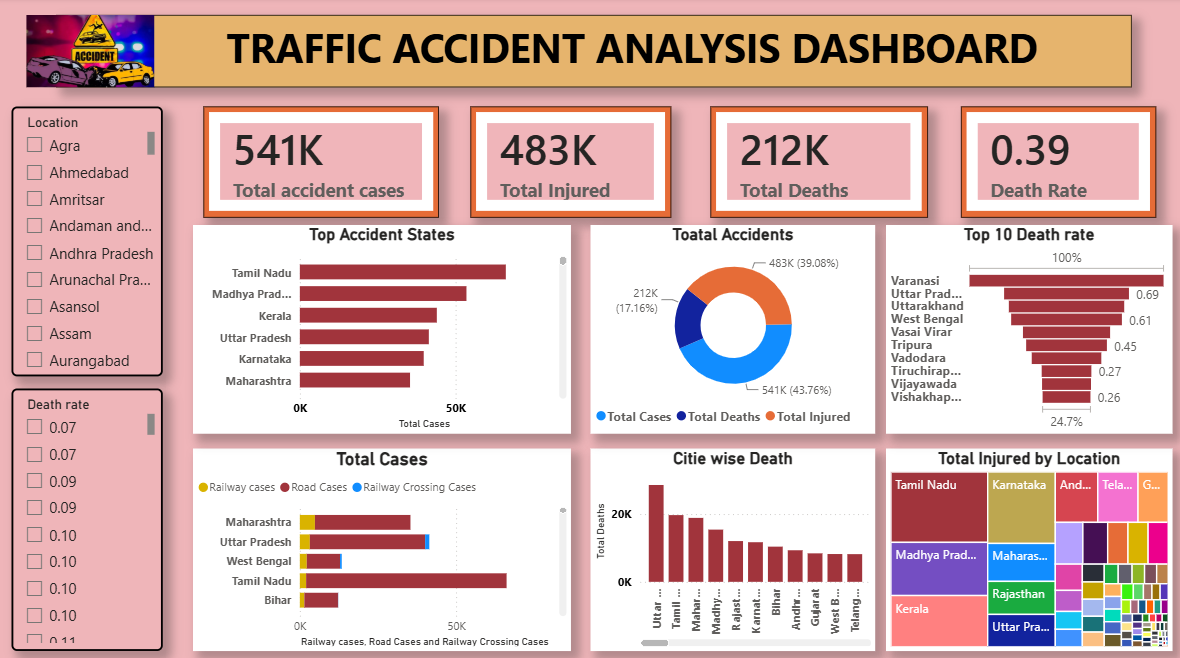

The dashboard page shown, as its layout file describes it:
{"tool":"powerbi","page":{"name":"Page 1","canvas":[1280,720],"ordinal":0},"visuals":[{"type":"cardVisual","fields":{"Data":["Measures (2).Total accident cases"]},"box":[221.8,118.2,254.2,119.8],"z":1},{"type":"cardVisual","fields":{"Data":["Measures (2).Total Injured"]},"box":[510.1,118.2,217,119.8],"z":2},{"type":"cardVisual","fields":{"Data":["Measures (2).Total Deaths"]},"box":[769.1,118.2,234.8,119.8],"z":3},{"type":"cardVisual","fields":{"Data":["Measures (2).Death Rate"]},"box":[1039.5,118.2,210.5,119.8],"z":4},{"type":"textbox","box":[63.1,19.4,1161,77.7],"z":7},{"type":"areaChart","title":"Total Cases","fields":{"Category":["Trafic_data (2).Location"],"Y":["Measures (2).Railway cases","Measures (2).Road Cases","Measures (2).Railway Crossing Cases"]},"box":[210.5,487.4,408,218.6],"z":8},{"type":"clusteredBarChart","title":"Top Accident States","fields":{"Category":["Trafic_data (2).Location"],"Y":["Measures (2).Total Cases"]},"box":[210.5,246.1,408,225.1],"z":10},{"type":"clusteredColumnChart","title":"Citie wise Death","fields":{"Category":["Trafic_data (2).Location"],"Y":["Measures (2).Total Deaths"]},"box":[639.6,487.4,307.7,218.6],"z":11},{"type":"donutChart","title":"Toatal Accidents","fields":{"Y":["Measures (2).Total Cases","Measures (2).Total Deaths","Measures (2).Total Injured"]},"box":[639.6,246.1,307.7,225.1],"z":12},{"type":"slicer","fields":{"Values":["Trafic_data (2).Location"]},"box":[14.6,118.2,163.5,291.5],"z":14},{"type":"slicer","fields":{"Values":["Trafic_data (2).Death rate"]},"box":[14.6,422.6,163.5,283.4],"z":15},{"type":"image","box":[0,19.4,199.2,77.7],"z":16},{"type":"treemap","fields":{"Group":["Trafic_data (2).Location"],"Values":["Measures (2).Total Injured"]},"box":[958.6,487.4,309.3,218.6],"z":17},{"type":"funnel","title":"Top 10 Death rate","fields":{"Category":["Trafic_data (2).Location"],"Y":["Measures (2).Death Rate"]},"box":[958.6,246.1,309.3,225.1],"z":18}]}

Visuals, with their boxes in screenshot pixels (x1, y1, x2, y2), scaled from the page's 1280x720 canvas onto the 1180x658 screenshot:
cardVisual - Measures (2).Total accident cases: [204,108,439,218]
cardVisual - Measures (2).Total Injured: [470,108,670,218]
cardVisual - Measures (2).Total Deaths: [709,108,925,218]
cardVisual - Measures (2).Death Rate: [958,108,1152,218]
textbox: [58,18,1128,89]
"Total Cases" areaChart: [194,445,570,645]
"Top Accident States" clusteredBarChart: [194,225,570,431]
"Citie wise Death" clusteredColumnChart: [590,445,873,645]
"Toatal Accidents" donutChart: [590,225,873,431]
slicer - Trafic_data (2).Location: [13,108,164,374]
slicer - Trafic_data (2).Death rate: [13,386,164,645]
image: [0,18,184,89]
treemap - Trafic_data (2).Location x Measures (2).Total Injured: [884,445,1169,645]
"Top 10 Death rate" funnel: [884,225,1169,431]
